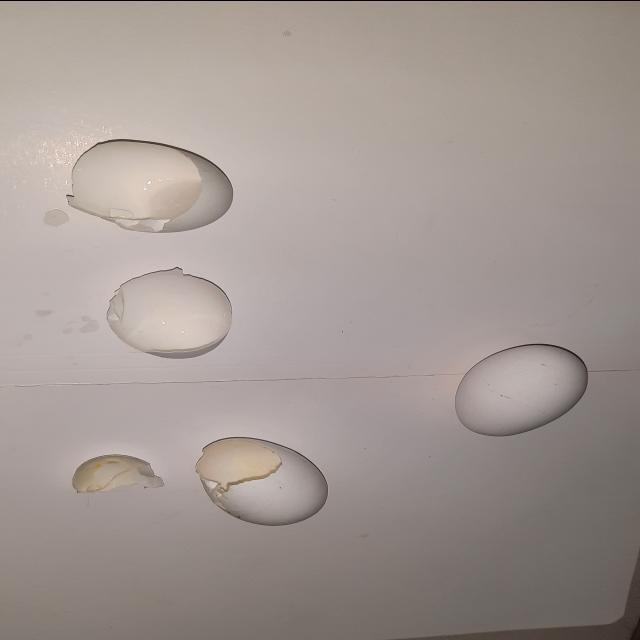egg shell: (61, 136, 245, 237), (449, 338, 595, 440), (186, 434, 335, 528), (101, 264, 237, 361), (70, 452, 167, 502)
